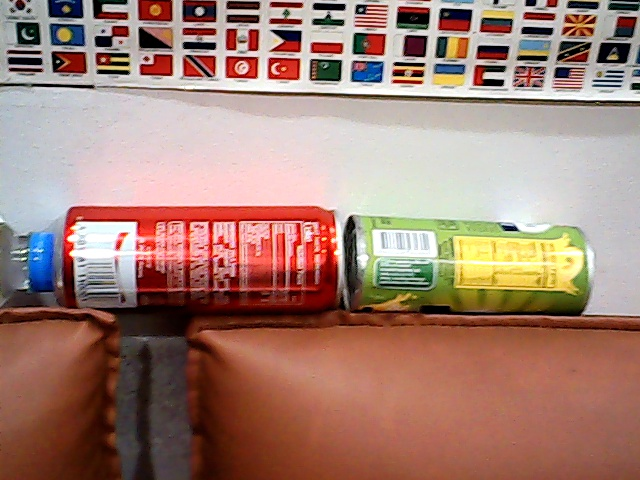Cola: (55, 190, 345, 329)
Pine Juice: (337, 204, 597, 332)
